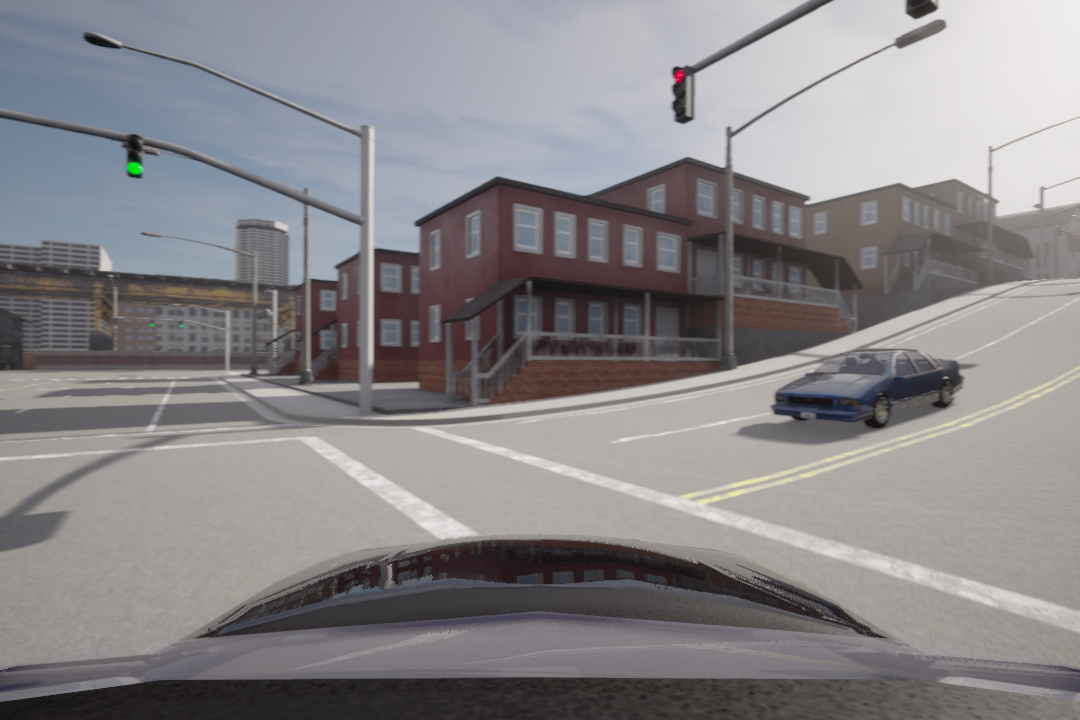TrafficLight: (669, 61, 698, 125), (116, 129, 149, 177)
